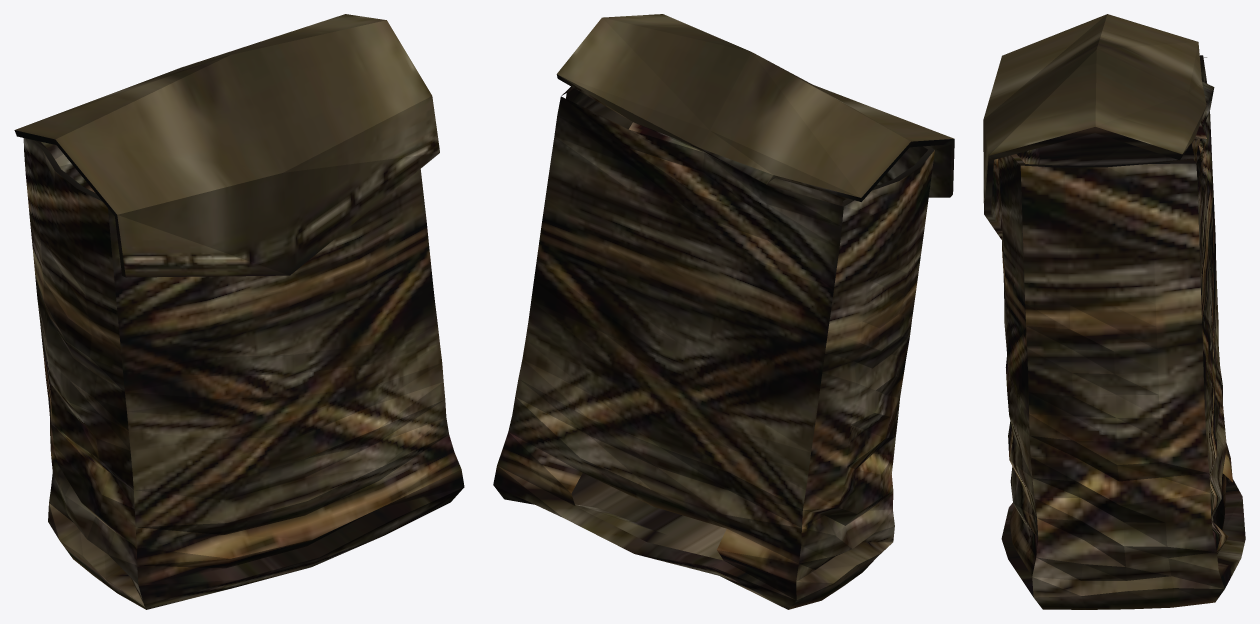
The model's file is STATIC_PLECAK4.glb.
3 renders of one model, left to right at view 1: azimuth 30°, elevation 25°; view 2: azimuth 150°, elevation 25°; view 3: azimuth 270°, elevation 25°, orthographic. The views are drawn at different scales.
Parts seen in each view (by area): view 1: STATIC_PLECAK4; view 2: STATIC_PLECAK4; view 3: STATIC_PLECAK4.
Boxes of the visible parts, left/top/right/bottom form: STATIC_PLECAK4: left=14, top=14, right=464, bottom=609; STATIC_PLECAK4: left=493, top=14, right=954, bottom=609; STATIC_PLECAK4: left=983, top=14, right=1245, bottom=609.
Size of the model in its own units: 0.4323 by 0.5494 by 0.2586.
1 material, 1 textured.
